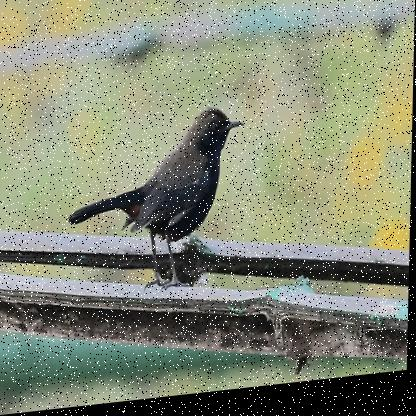Burung: (67, 109, 245, 304)
